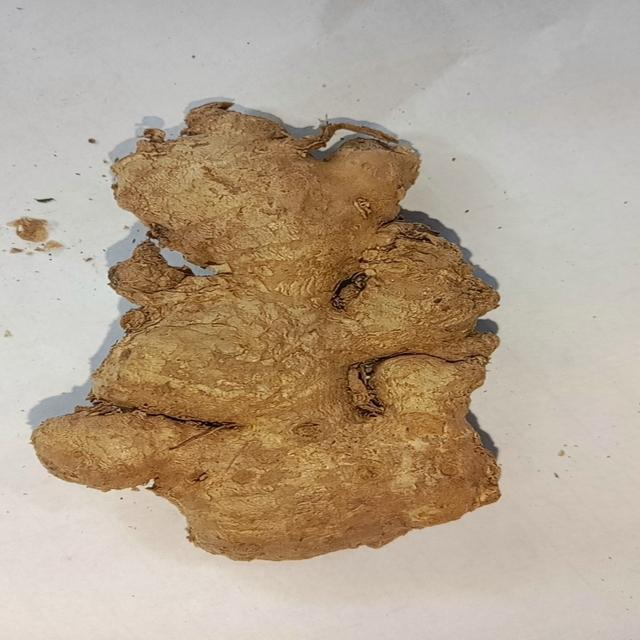ginger: (41, 113, 514, 555)
